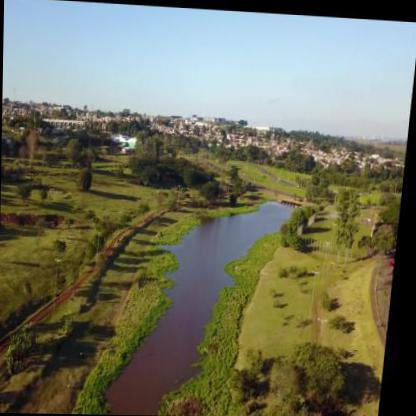agua: (169, 232, 218, 382), (136, 332, 171, 410), (206, 212, 238, 278), (225, 206, 263, 253)
